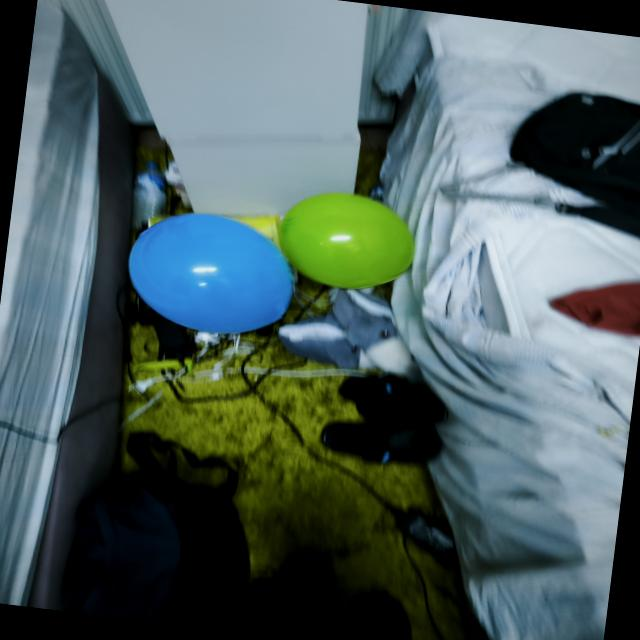balloon: (128, 213, 293, 333), (279, 193, 414, 288)
